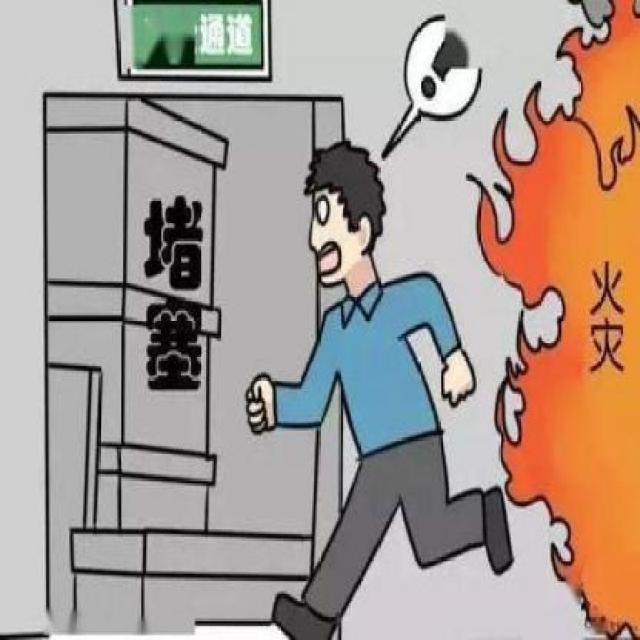exit_sign: (125, 0, 280, 86)
